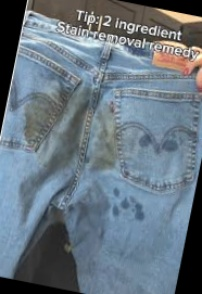earth: (32, 89, 123, 171), (18, 104, 47, 144)
